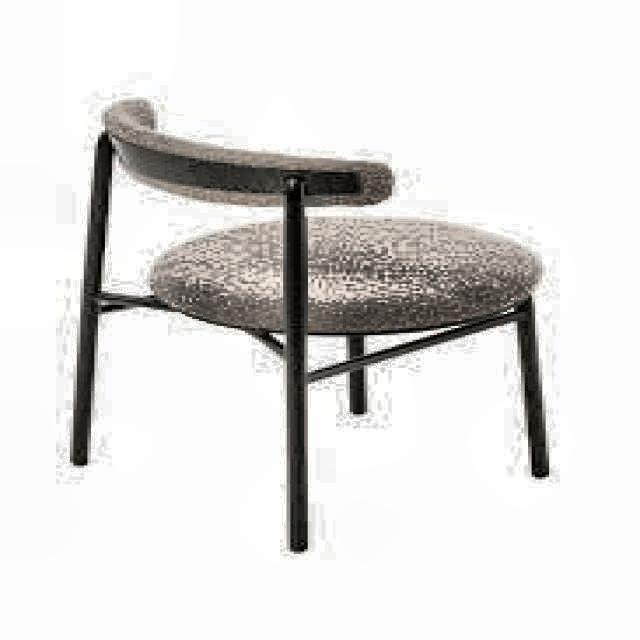cadeira: (62, 93, 560, 554), (92, 98, 544, 336)
